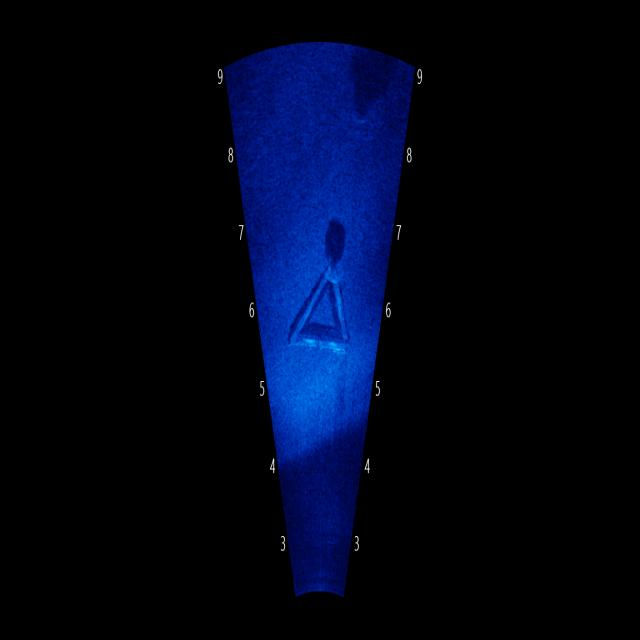triangle: (276, 218, 362, 372)
